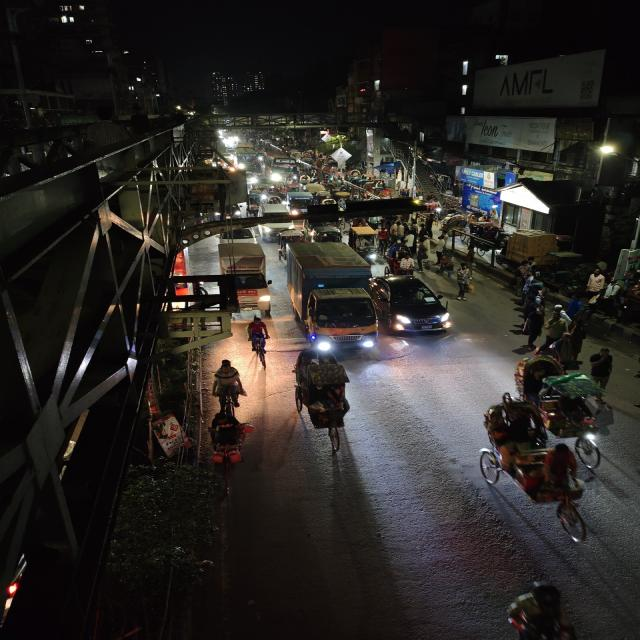bicycle: (210, 357, 249, 413), (243, 318, 272, 368)
bus: (264, 153, 296, 183)
car: (372, 273, 455, 337), (254, 205, 292, 238)
motorcycle: (204, 410, 255, 468), (243, 315, 273, 367)
pedestrian: (587, 345, 621, 387), (539, 314, 568, 356), (566, 320, 593, 360), (520, 308, 545, 346), (452, 264, 477, 299), (522, 282, 549, 310), (412, 240, 432, 271), (435, 250, 457, 278), (567, 295, 583, 317)
rickshaw: (476, 389, 595, 543), (513, 357, 625, 453), (288, 352, 368, 456), (498, 573, 591, 640), (205, 410, 255, 467), (348, 225, 387, 263)
truck: (280, 238, 379, 356), (215, 244, 277, 318)
